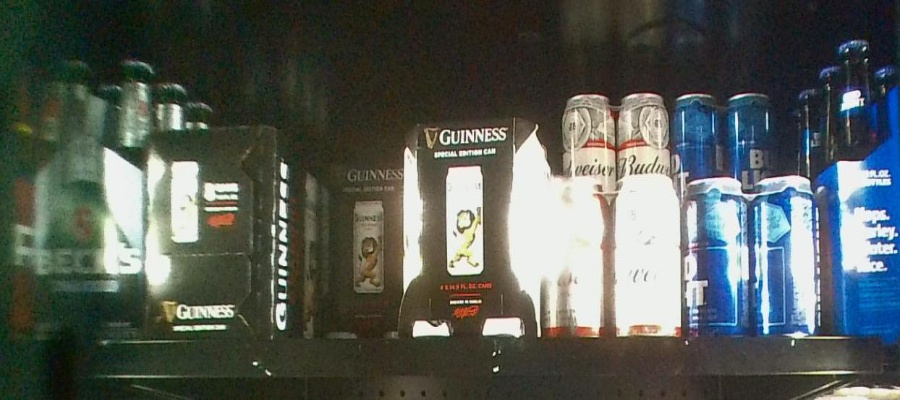bottle: (143, 127, 306, 349), (404, 116, 542, 344), (687, 177, 827, 338), (553, 171, 681, 337), (328, 159, 402, 327)
